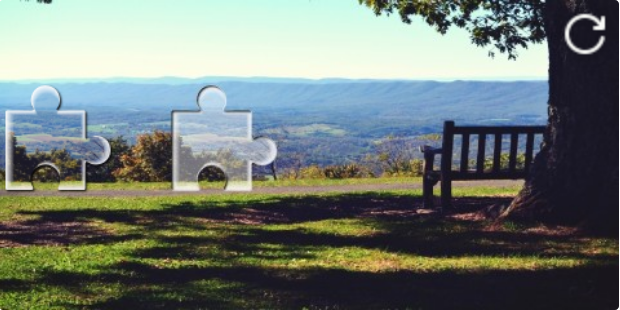target: (171, 85, 277, 192)
